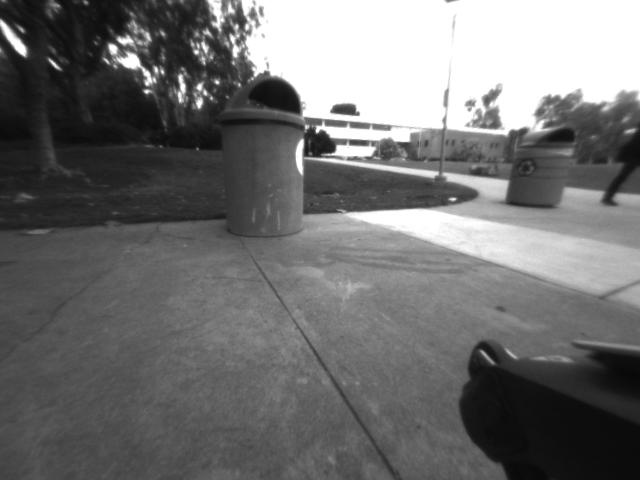trashcan: (207, 66, 323, 256)
